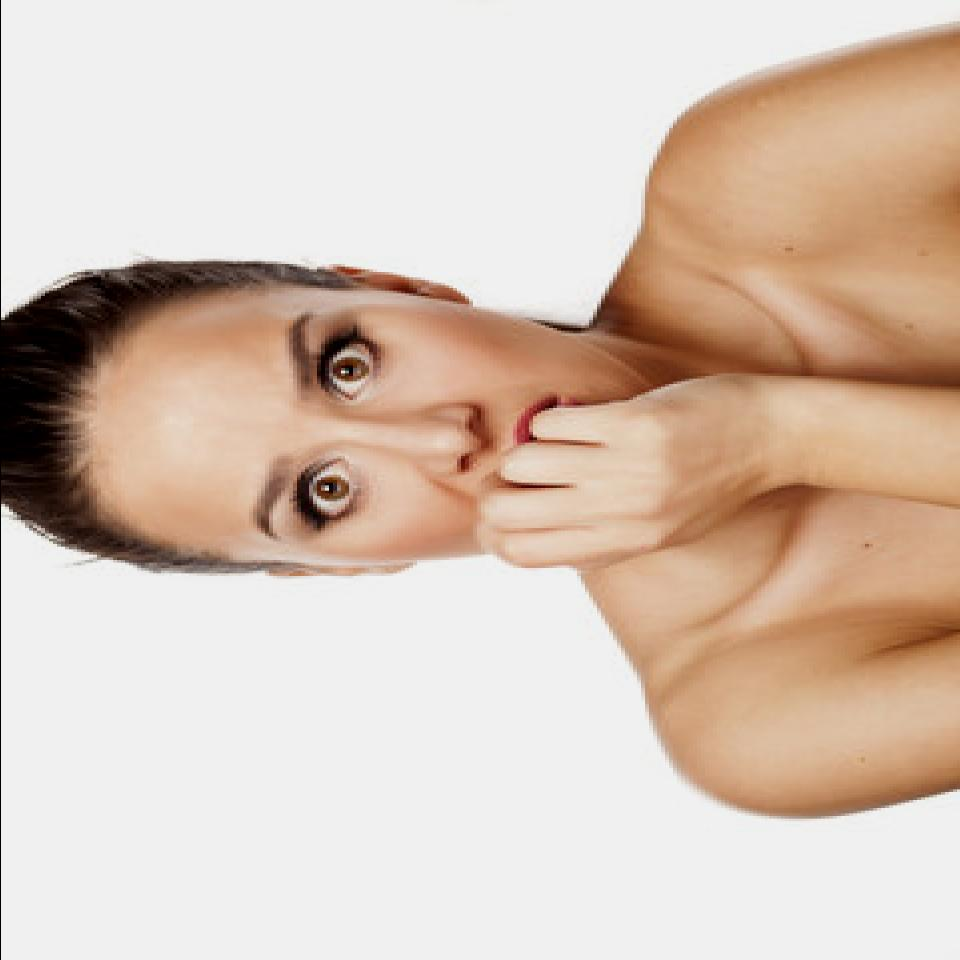Scared: (78, 264, 716, 577)
